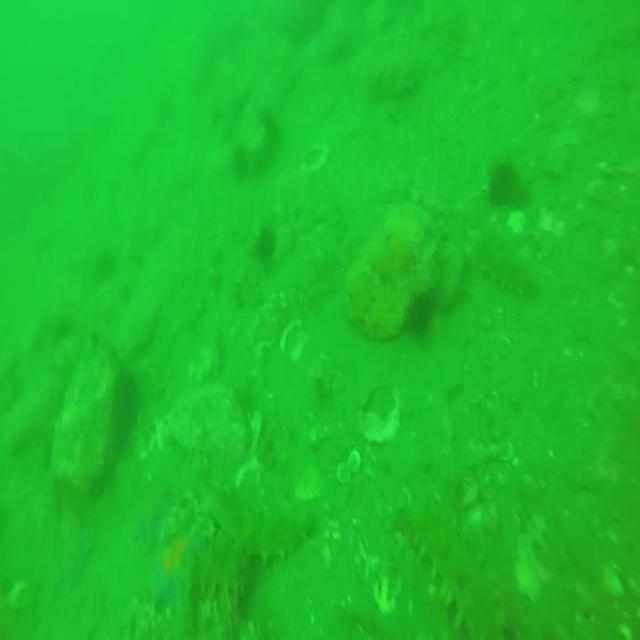echinus: (408, 281, 434, 335), (489, 155, 515, 207), (230, 139, 252, 174), (258, 228, 276, 268)
holothurian: (407, 496, 501, 640), (197, 484, 311, 561), (466, 228, 538, 304)
scallop: (274, 321, 308, 360), (336, 451, 363, 484), (585, 180, 613, 202)
starfish: (152, 531, 204, 612), (49, 512, 91, 589), (132, 490, 176, 543)
